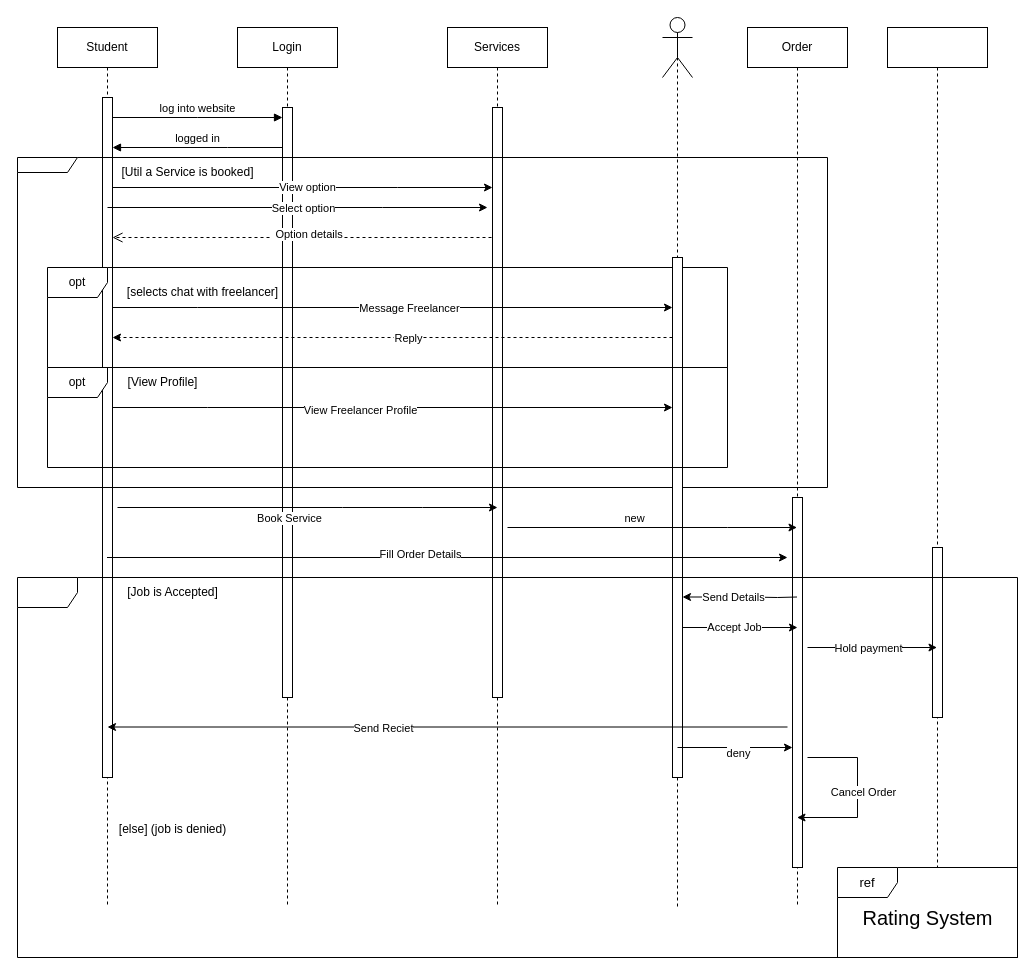
This 1035x975 diagram has some shape labels left out. Here are the shapes that lost their labels. From the top down, the box of each, then its label:
(662, 16, 692, 78): Freelancer
(16, 156, 828, 488): loop
(886, 26, 988, 868): Payment
(16, 576, 1018, 958): alt
